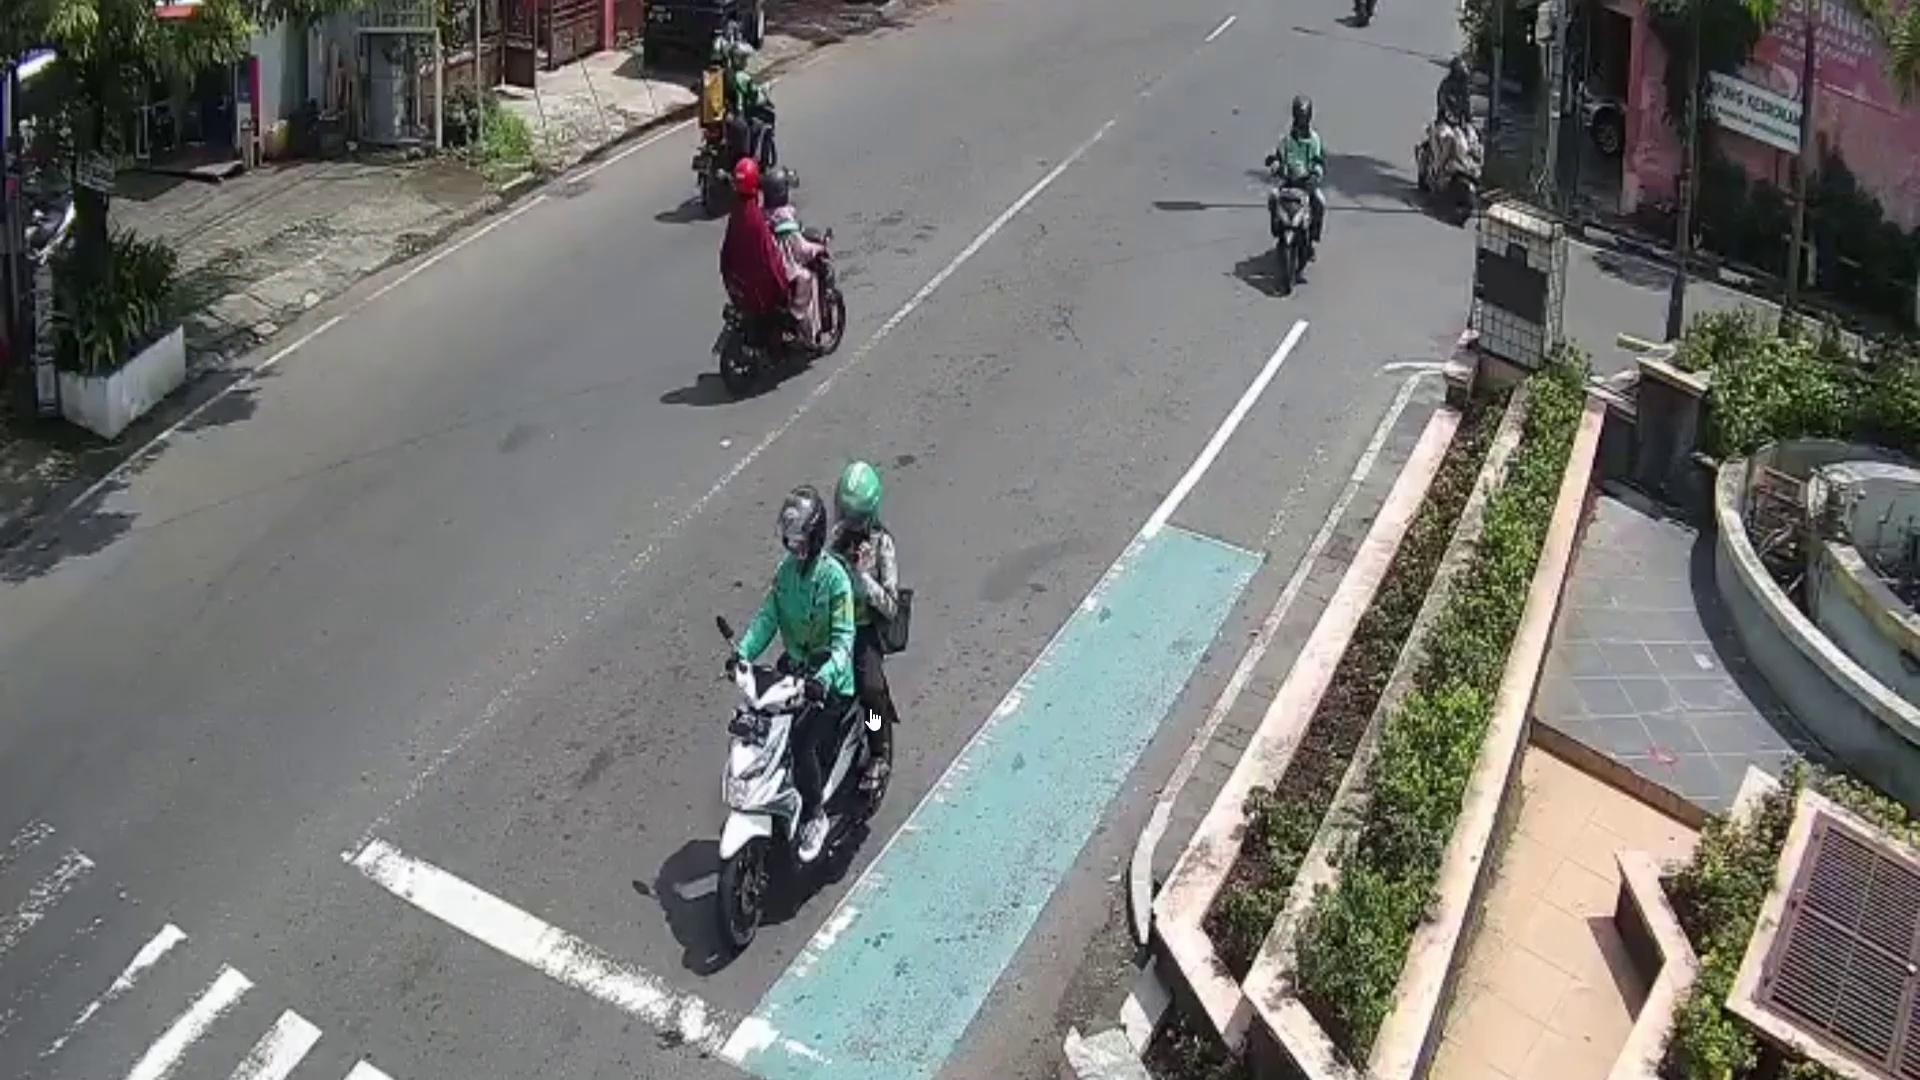motorbike: (709, 653, 876, 952), (719, 228, 844, 393), (699, 87, 781, 215), (1414, 113, 1484, 227), (1266, 157, 1312, 297)
